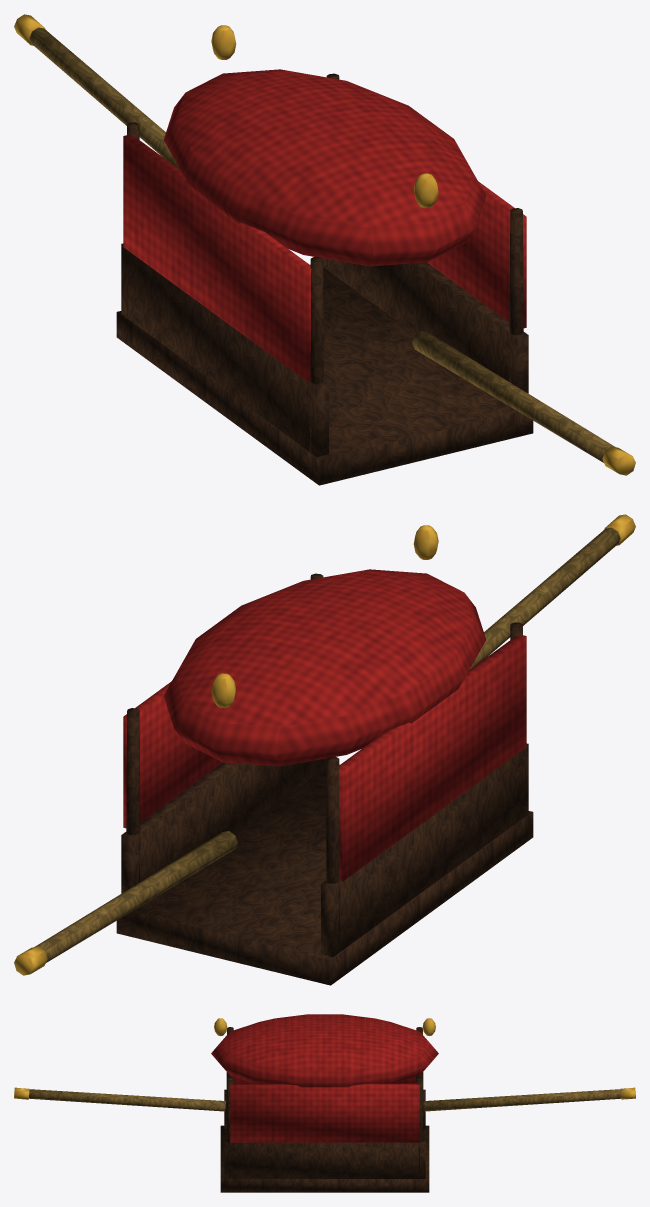
Rendered from kerala_pallakku.glb.
3 views of the same model, one above another, from view 1: azimuth 30°, elevation 25°; view 2: azimuth 150°, elevation 25°; view 3: azimuth 270°, elevation 25° (orthographic). The views are drawn at different scales.
Visible parts, largest first — view 1: Pallakku_Canopy, Pallakku_Wood, Pallakku_Poles, Pallakku_Brass; view 2: Pallakku_Canopy, Pallakku_Wood, Pallakku_Poles, Pallakku_Brass; view 3: Pallakku_Canopy, Pallakku_Wood, Pallakku_Poles, Pallakku_Brass.
Boxes of the visible parts, bbox=[...] form: Pallakku_Canopy: bbox=[123, 69, 526, 381]; Pallakku_Wood: bbox=[116, 73, 533, 485]; Pallakku_Poles: bbox=[29, 27, 614, 462]; Pallakku_Brass: bbox=[14, 14, 635, 475]; Pallakku_Canopy: bbox=[123, 569, 526, 881]; Pallakku_Wood: bbox=[116, 573, 533, 985]; Pallakku_Poles: bbox=[35, 527, 620, 962]; Pallakku_Brass: bbox=[14, 514, 635, 975]; Pallakku_Canopy: bbox=[211, 1014, 438, 1142]; Pallakku_Wood: bbox=[220, 1027, 429, 1192]; Pallakku_Poles: bbox=[29, 1089, 620, 1111]; Pallakku_Brass: bbox=[14, 1018, 635, 1099].
Size of the model in its own units: 1.13 by 1.34 by 5.13.
Materials: 4 (4 with a texture image).
